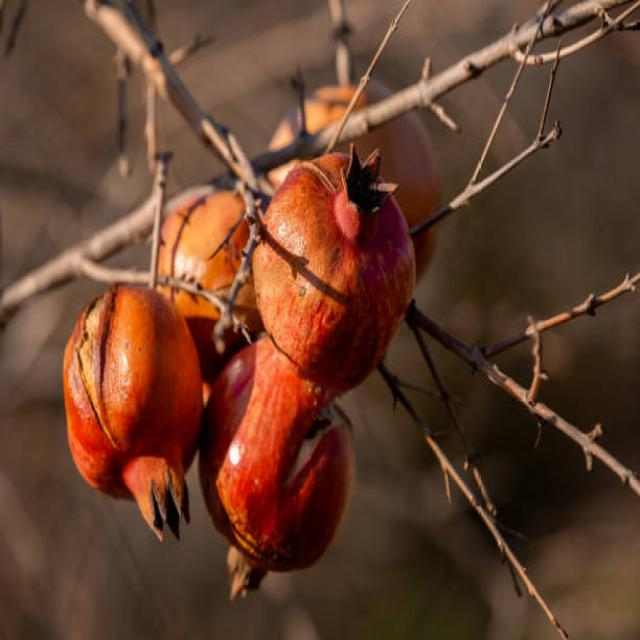overripe: (208, 333, 361, 598), (52, 281, 204, 542), (249, 138, 417, 364)
